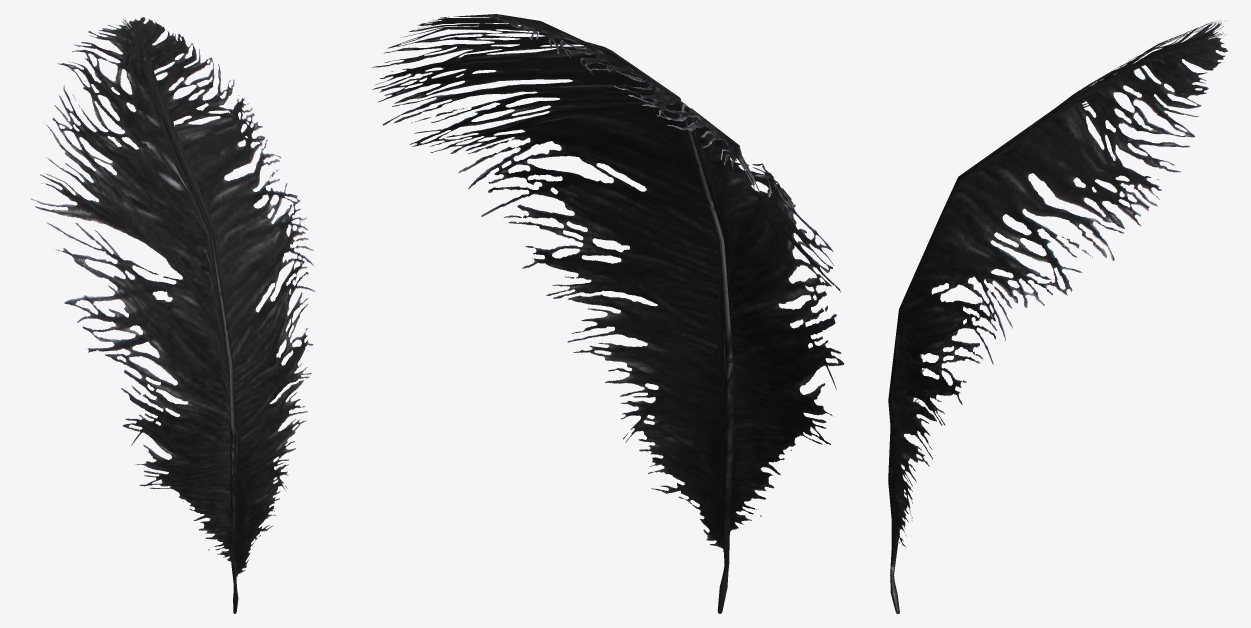
Rendered from Quill3.fbx.
The picture shows the model from 3 angles, left to right: view 1: azimuth 30°, elevation 25°; view 2: azimuth 150°, elevation 25°; view 3: azimuth 270°, elevation 25°; orthographic projection. The views are drawn at different scales.
Visible parts, largest first — view 1: Quill_LOD0; view 2: Quill_LOD0; view 3: Quill_LOD0.
Part boxes in pixels (x1,y1,x2,y2): Quill_LOD0: [31, 17, 315, 613]; Quill_LOD0: [371, 14, 844, 613]; Quill_LOD0: [888, 20, 1227, 613].
Size of what is drawn, in the model's own units: 42.86 by 71.36 by 37.82.
